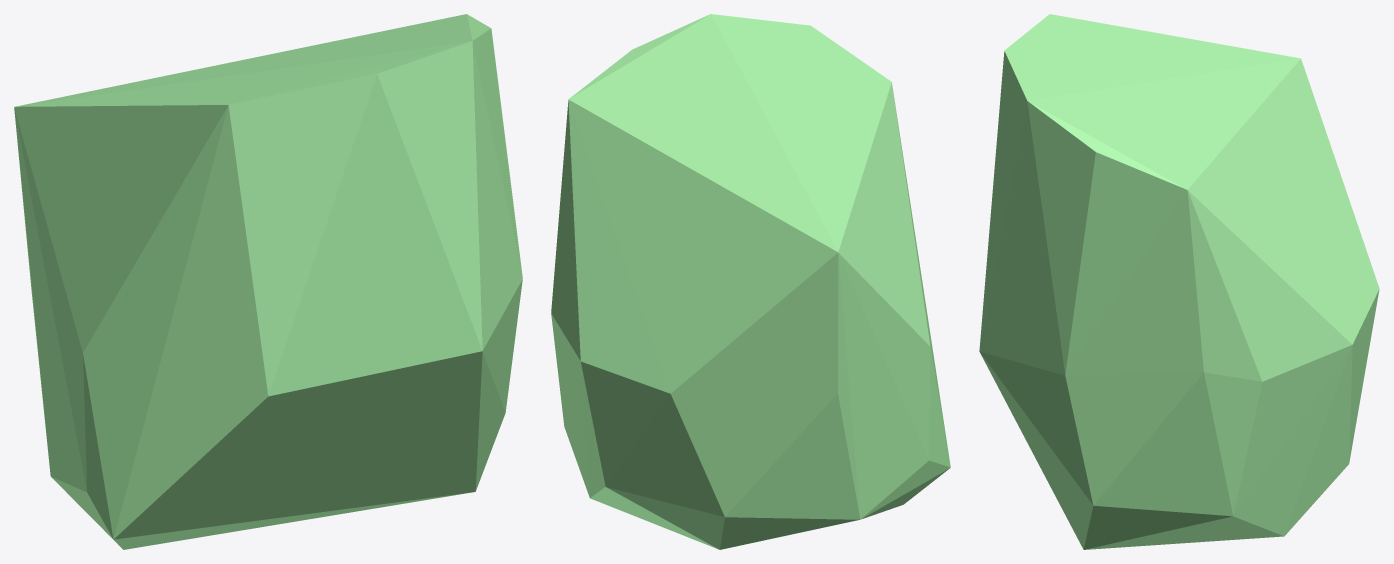
The model's file is linkhou_LR4_R560_link3_respondable_coll_12.dae.
3 views of the same model, side by side, from view 1: azimuth 30°, elevation 25°; view 2: azimuth 150°, elevation 25°; view 3: azimuth 270°, elevation 25° (orthographic). The views are drawn at different scales.
Parts seen in each view (by area): view 1: Node_00000209DB3A9E60; view 2: Node_00000209DB3A9E60; view 3: Node_00000209DB3A9E60.
Boxes of the visible parts, x1=… form: Node_00000209DB3A9E60: x1=14, y1=14, x2=522, y2=549; Node_00000209DB3A9E60: x1=551, y1=14, x2=950, y2=549; Node_00000209DB3A9E60: x1=979, y1=14, x2=1379, y2=549.
Bounding box in the file's own units: 0.1049 × 0.1239 × 0.0983.
